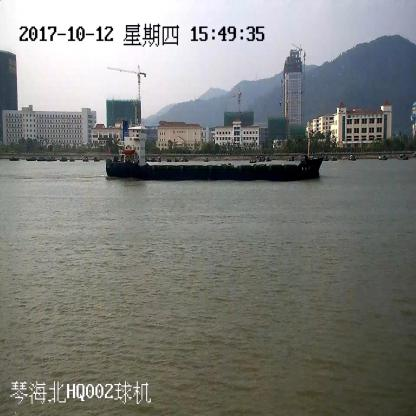Bulk Carrier: (106, 101, 322, 179)
